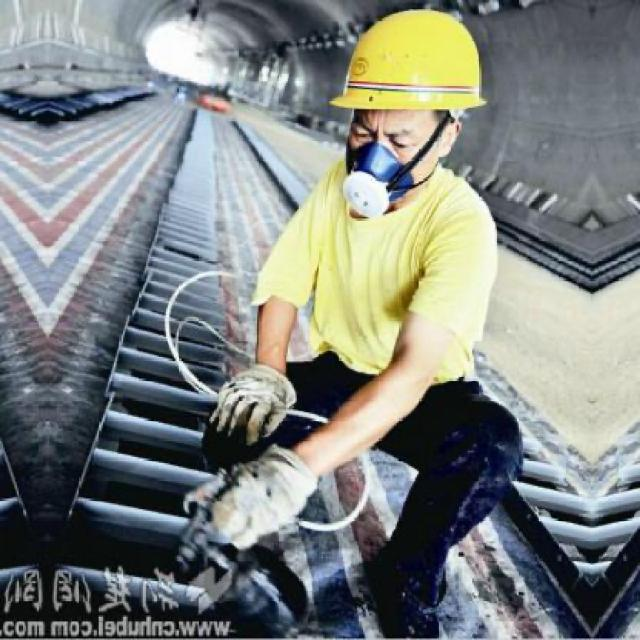con casco: (292, 14, 509, 252)
